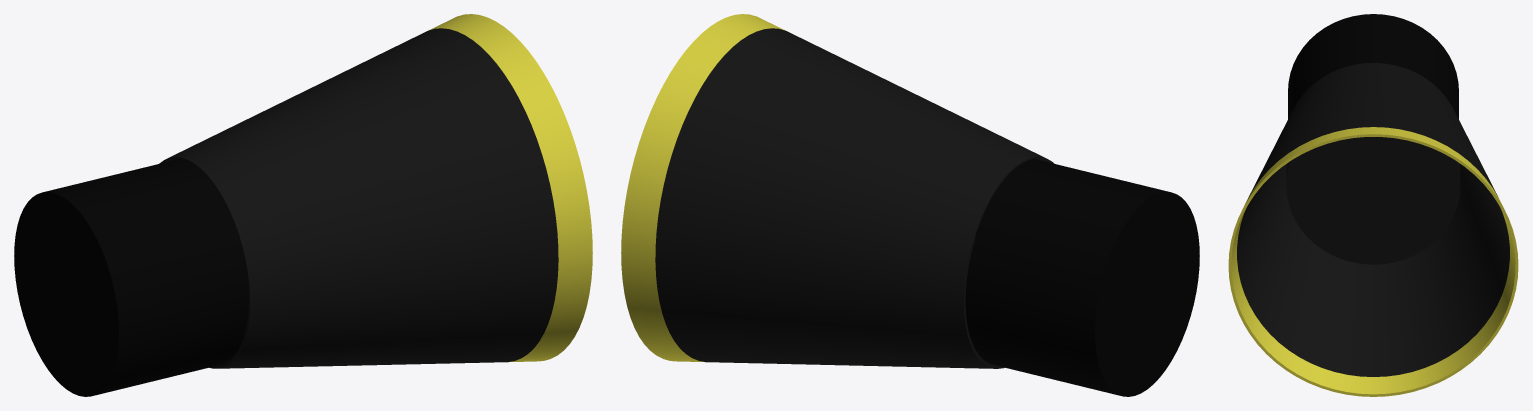
The model's file is forearm_sinister.obj.
3 renders of one model, left to right at view 1: azimuth 30°, elevation 25°; view 2: azimuth 150°, elevation 25°; view 3: azimuth 270°, elevation 25°, orthographic. The views are drawn at different scales.
Parts seen in each view (by area): view 1: Body7, Body4, Body8; view 2: Body7, Body4, Body8; view 3: Body7, Body5, Body8, Body4.
Part boxes in pixels (x1,y1,x2,y2): Body7: [159, 28, 558, 368]; Body4: [14, 159, 248, 396]; Body8: [428, 14, 592, 362]; Body7: [655, 28, 1054, 368]; Body4: [965, 159, 1199, 396]; Body8: [621, 14, 785, 362]; Body7: [1237, 63, 1509, 376]; Body5: [1286, 137, 1460, 264]; Body8: [1228, 127, 1518, 396]; Body4: [1288, 14, 1458, 118].
Size of the model in its own units: 0.284 by 0.2 by 0.2.
